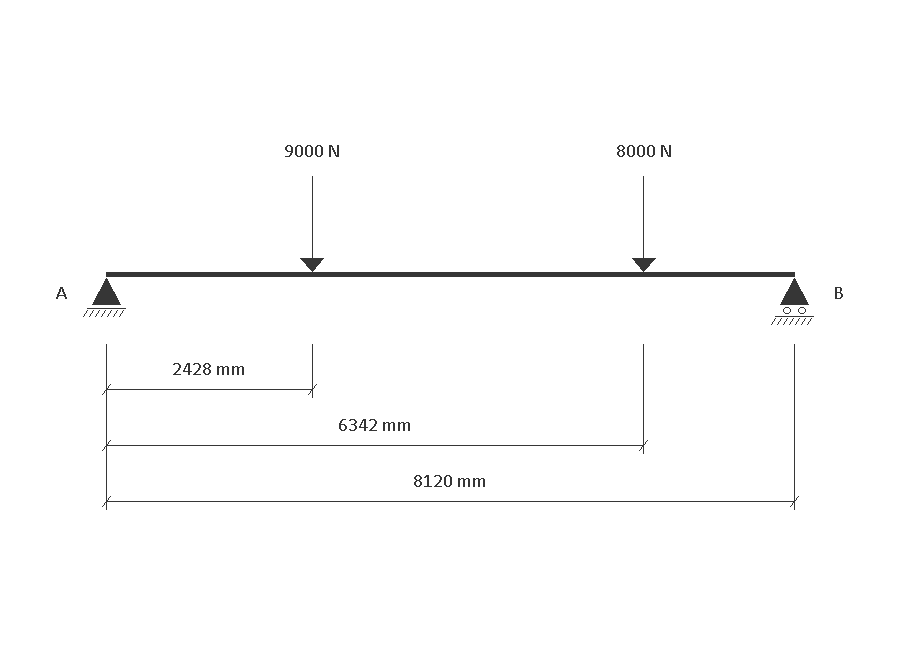pin_support: (83, 278, 126, 317)
point_load: (300, 176, 324, 272), (632, 176, 656, 272)
roller_support: (771, 278, 814, 325)
